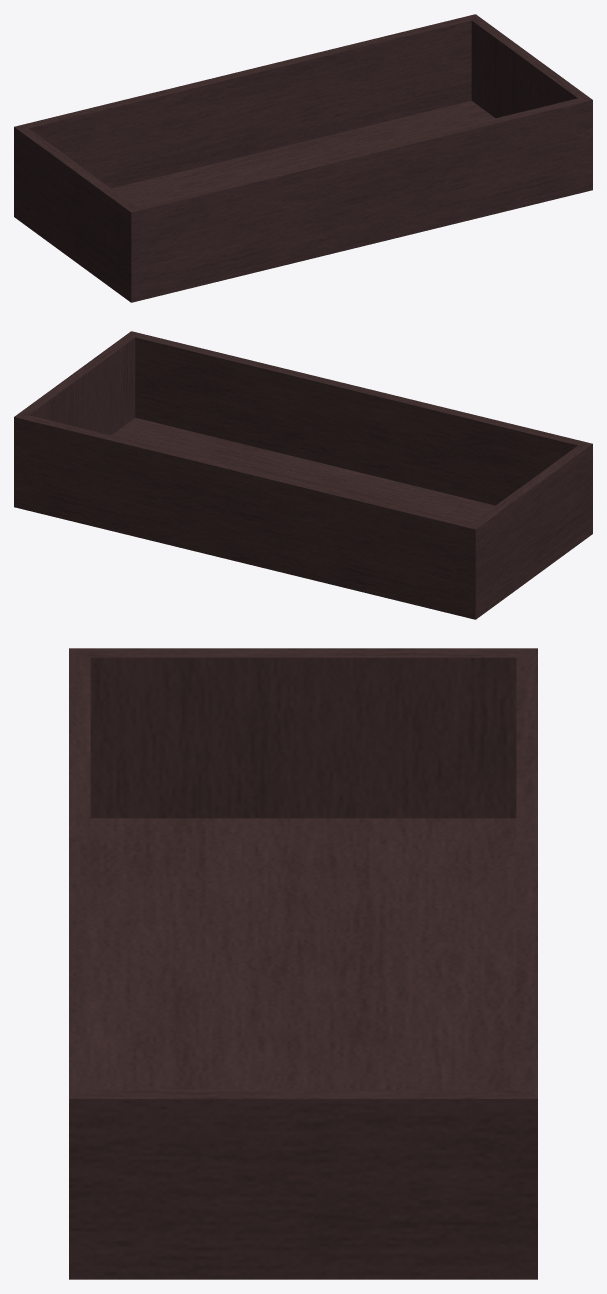
File: PencilCaseA.fbx
3 renders of one model, top to bottom at view 1: azimuth 30°, elevation 25°; view 2: azimuth 150°, elevation 25°; view 3: azimuth 270°, elevation 25°, orthographic. The views are drawn at different scales.
Parts seen in each view (by area): view 1: PencilCaseA; view 2: PencilCaseA; view 3: PencilCaseA.
Part boxes in pixels (<box>): PencilCaseA: <box>14,14,592,302</box>; PencilCaseA: <box>14,331,592,619</box>; PencilCaseA: <box>69,648,537,1279</box>.
Bounding box in the file's own units: 16.5 × 3.08 × 7.26.
